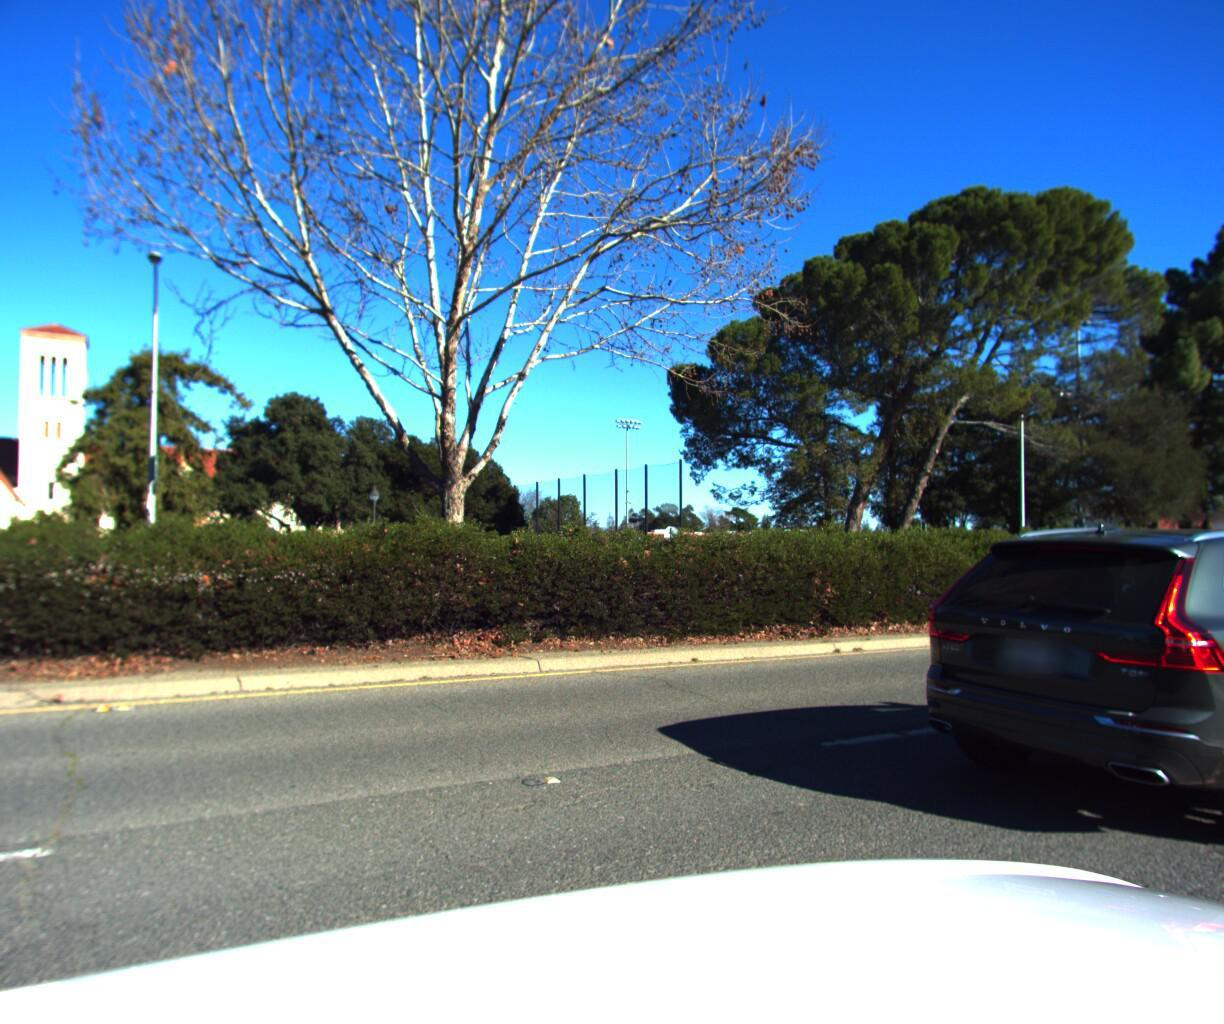car: (893, 505, 1224, 881)
